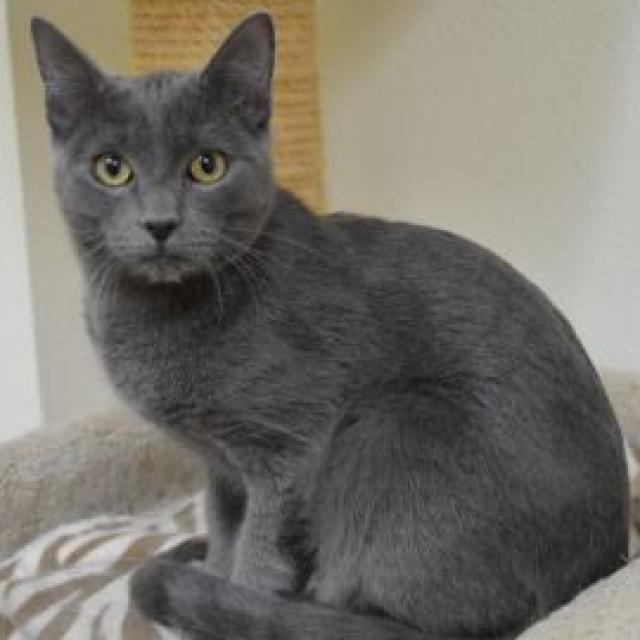Russian Blue: (29, 7, 630, 640)
